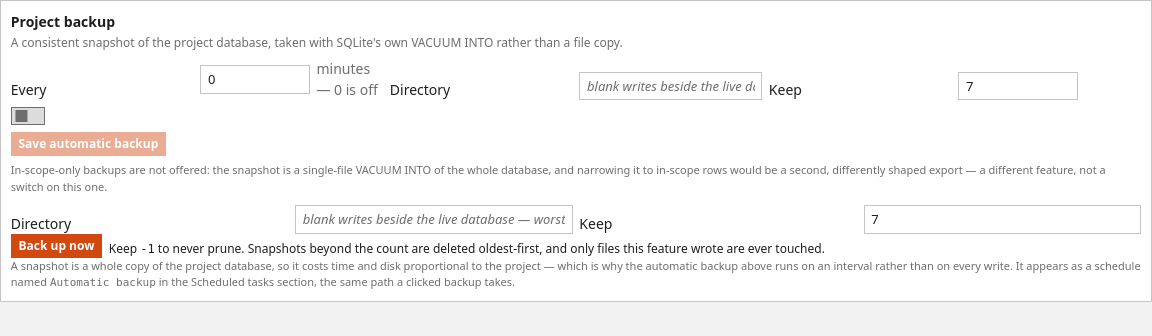
Test: Project backup form › an out-of-range retention shows its message and sends nothing
Replace the text in the number field named "How many snapshots to keep" with "-5" at (1002, 220), box [864, 205, 1141, 234]
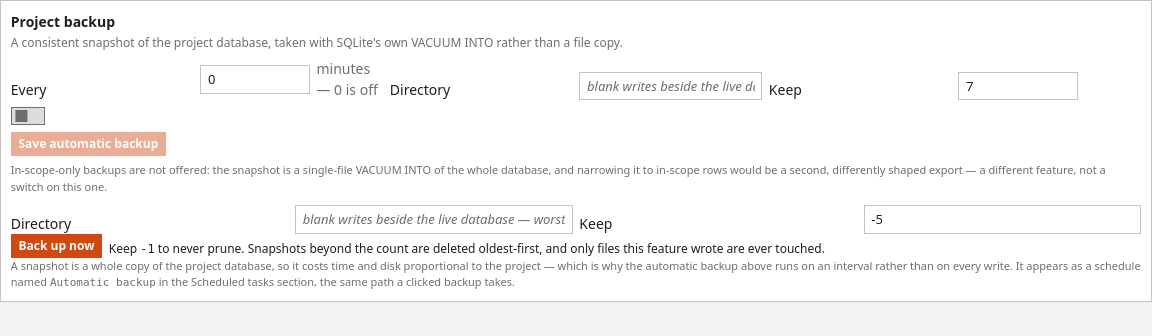
Click the button "Back up now".
click(56, 246)  # box [11, 234, 102, 258]
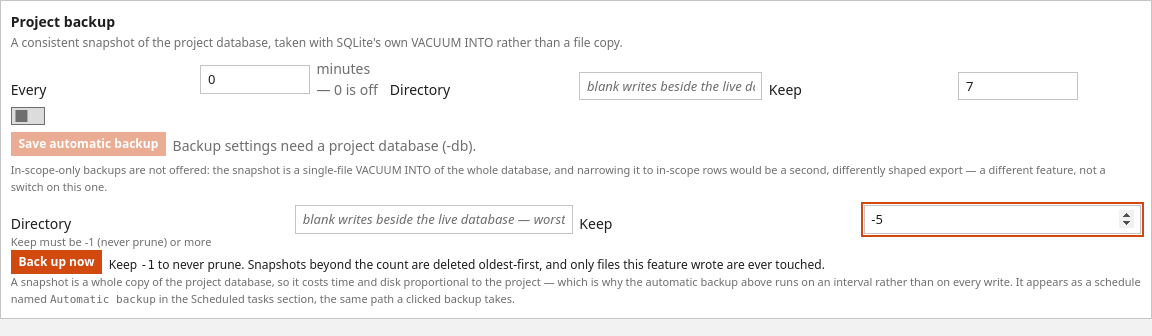
Expected: the message shows "Keep must be -1", [11, 234, 211, 249]
